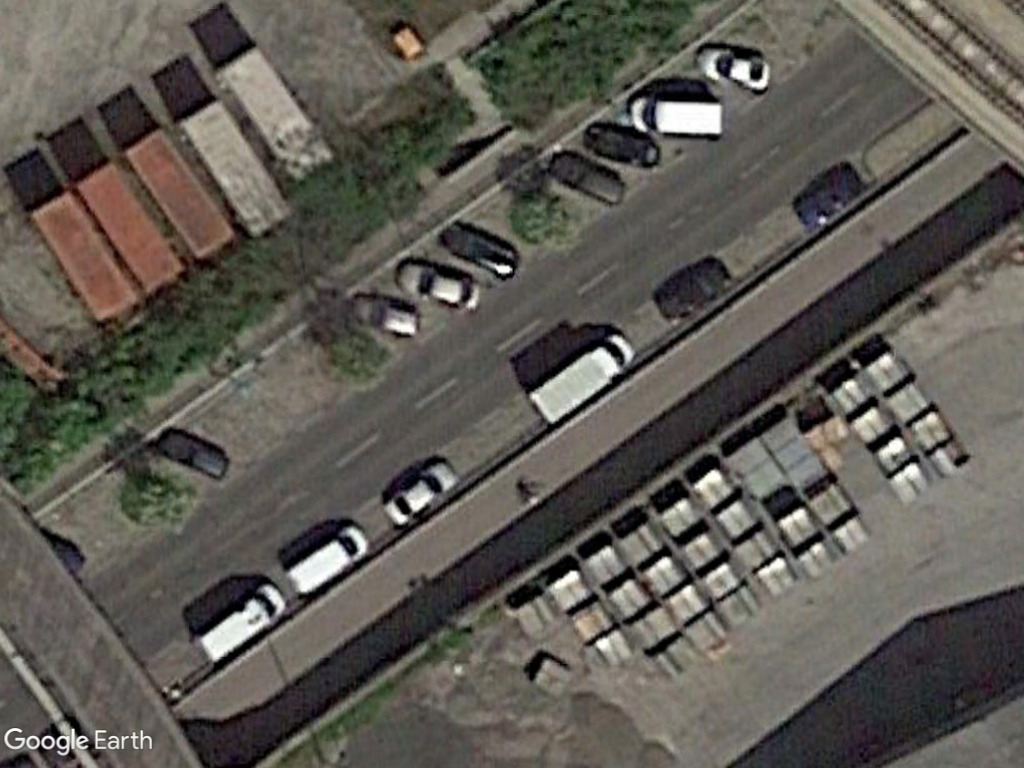car: (375, 447, 456, 537), (391, 253, 488, 315), (691, 39, 777, 97)
truck: (525, 323, 638, 433)
van: (195, 579, 290, 668), (285, 517, 372, 599), (622, 89, 733, 143)
